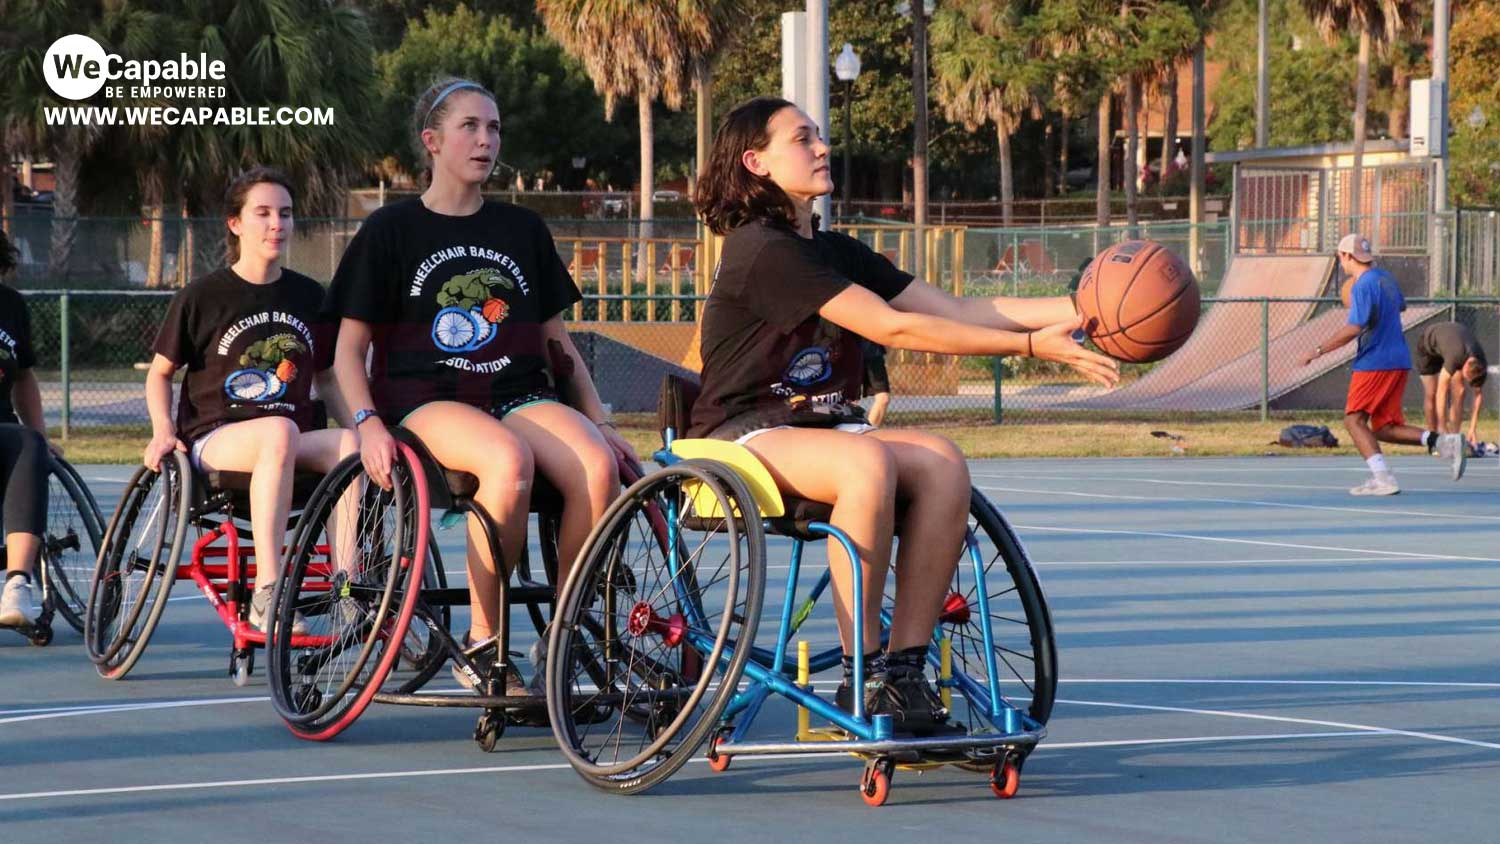ball: (1062, 230, 1213, 375)
